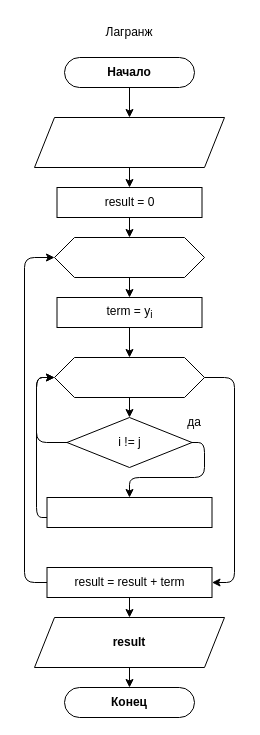
Some shapes in this 260 by 735 pixel diagram are drawn without their labels. Here are the shapes that lost their labels. From the top down, the centre of each, then its label:
(x=129, y=142): points[] {x, y}, n, x
(x=129, y=257): i от 0 до n - 1
(x=129, y=377): j от 0 до n - 1
(x=129, y=512): term = term * (x - x j ) / (x i - x j )
